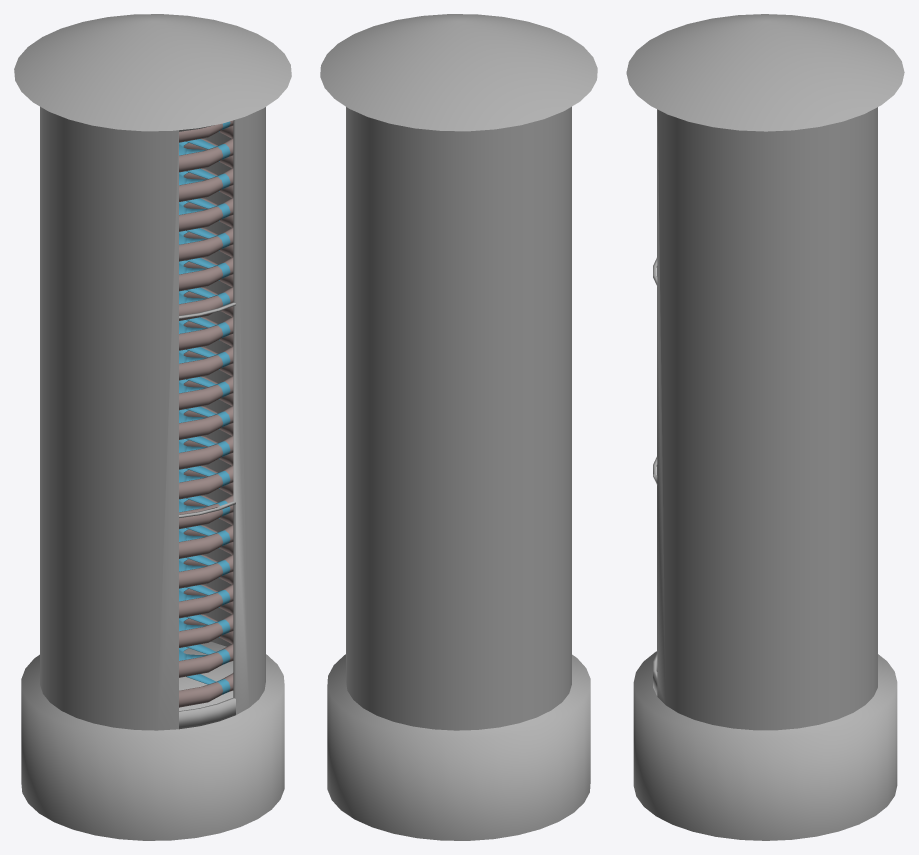
The model's file is Flywheel_Tower.glb.
The picture shows the model from 3 angles, left to right: view 1: azimuth 30°, elevation 25°; view 2: azimuth 150°, elevation 25°; view 3: azimuth 270°, elevation 25°; orthographic projection.
Parts seen in each view (by area): view 1: FlywheelTower_LOD0; view 2: FlywheelTower_LOD0; view 3: FlywheelTower_LOD0.
Boxes of the visible parts, x1,y1,x2,y2 form: FlywheelTower_LOD0: (14,14,291,840); FlywheelTower_LOD0: (320,14,597,840); FlywheelTower_LOD0: (626,14,904,840).
Size of what is drawn, in the model's own units: 7.38 by 22.35 by 7.38.
